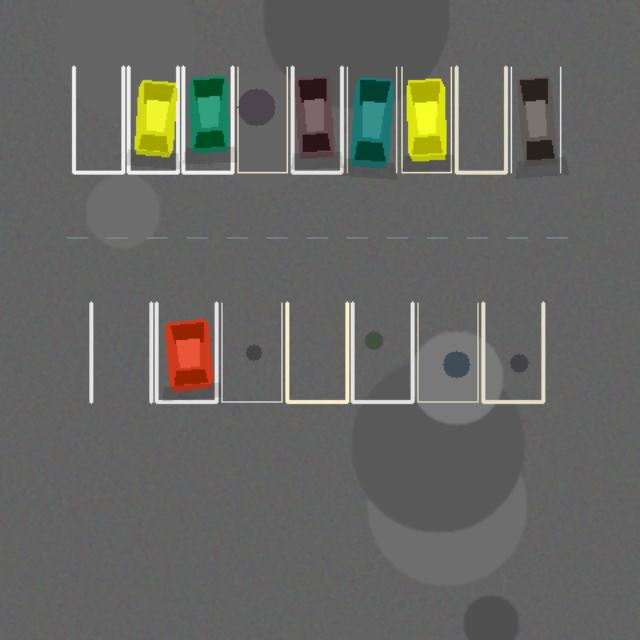space-empty: (91, 303, 151, 401), (221, 303, 281, 401), (287, 303, 347, 401), (352, 303, 412, 401), (417, 303, 477, 401), (483, 303, 543, 401), (73, 67, 123, 172), (237, 67, 287, 172), (456, 67, 505, 172)
space-occupied: (156, 303, 216, 401), (401, 67, 451, 172), (128, 67, 177, 172), (183, 67, 232, 172), (292, 67, 341, 172), (347, 67, 396, 172), (511, 67, 560, 172)
